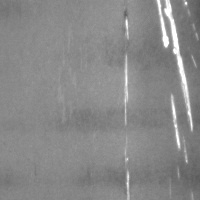scratches: (156, 1, 195, 148), (118, 13, 136, 200)
